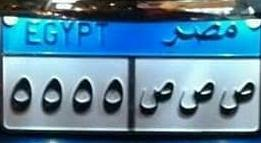5: (98, 76, 128, 117), (40, 74, 68, 117), (7, 75, 36, 114), (70, 75, 95, 115)
saad: (217, 79, 256, 119), (138, 79, 176, 118), (178, 80, 215, 117)
